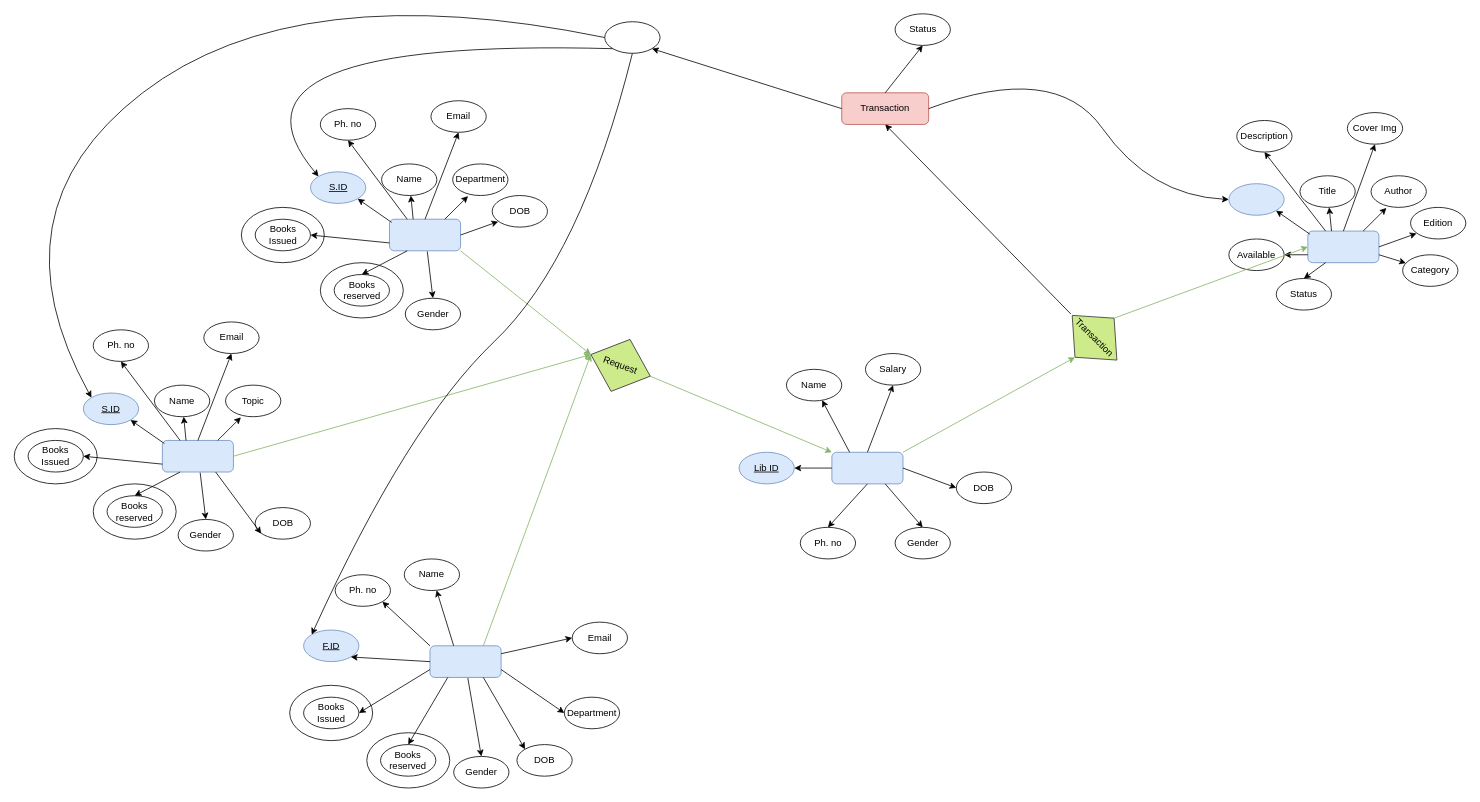
Some shapes in this 1480 by 802 pixel diagram are drawn without their labels. The shapes that lost their labels are listed below. From the top down, each one's centre as x and y in pixels, then its label:
At (x=632, y=37): "User ID".
At (x=1256, y=199): "Book ID".
At (x=425, y=234): "Student".
At (x=1343, y=246): "Book".
At (x=197, y=456): "Scholar".
At (x=867, y=467): "Librarian".
At (x=465, y=661): "Faculty".
